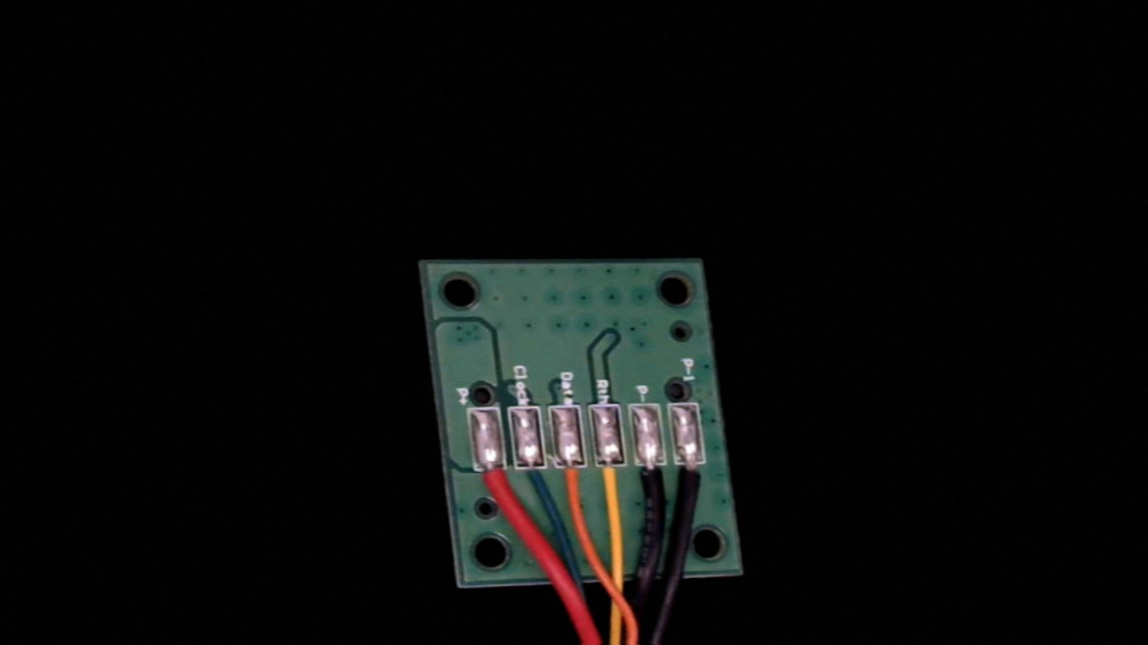Black: (633, 451, 675, 522)
Black1: (675, 451, 715, 517)
Green: (513, 452, 552, 512)
Orange: (554, 451, 594, 523)
Red: (470, 455, 513, 525)
Yellow: (591, 452, 633, 525)
